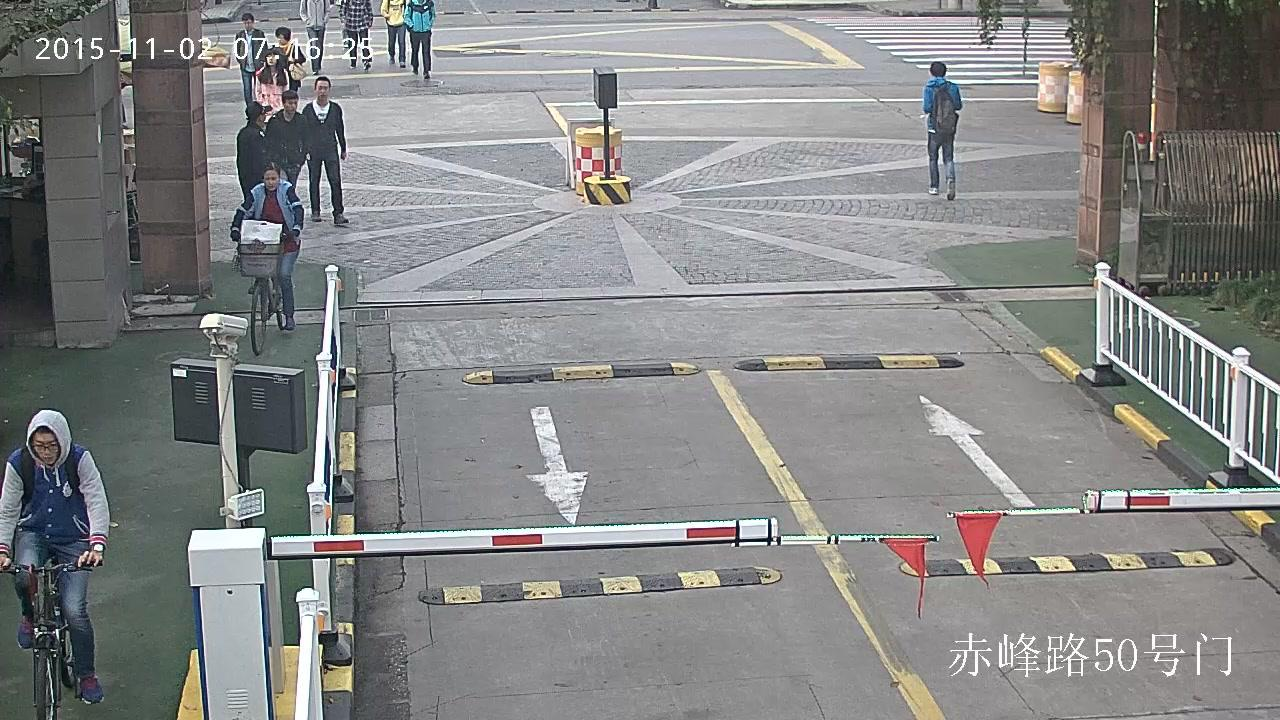face: (32, 432, 59, 464), (265, 169, 280, 190), (316, 80, 329, 100), (285, 98, 297, 112), (266, 54, 276, 65), (243, 19, 252, 29), (278, 34, 287, 43), (259, 111, 266, 121)
